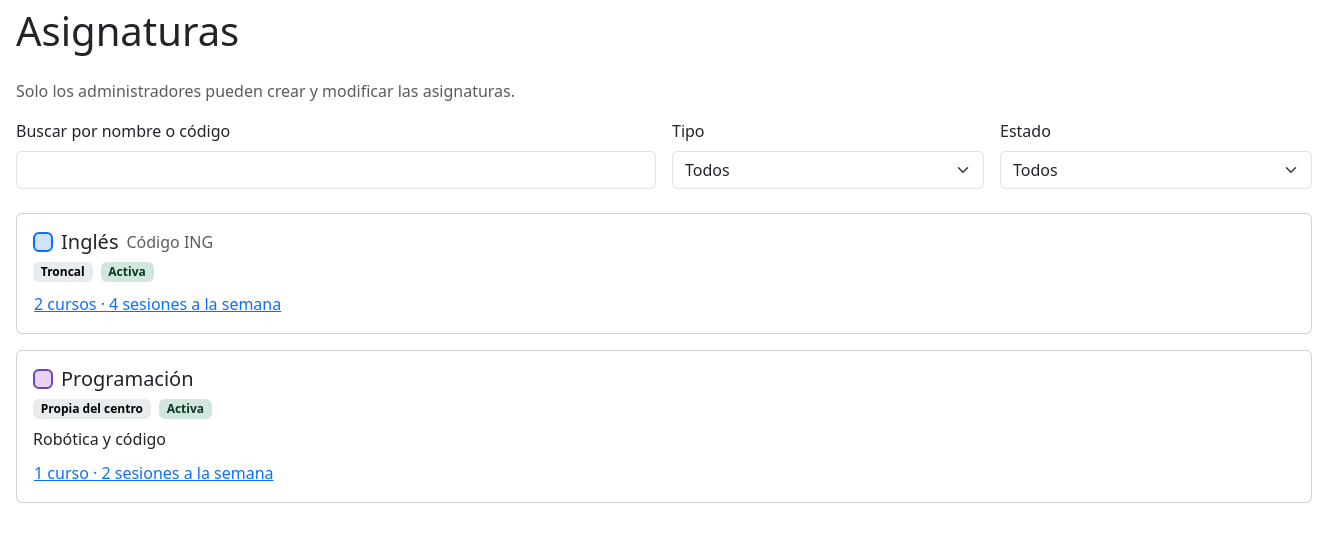
Test: SubjectsPage › expanding the courses › expands each subject on its own
Expected: the element "Inglés" is shown, left=16, top=213, right=1312, bottom=334
Click the button "1 curso · 2 sesiones a la semana" at (154, 473), box left=33, top=460, right=274, bottom=486
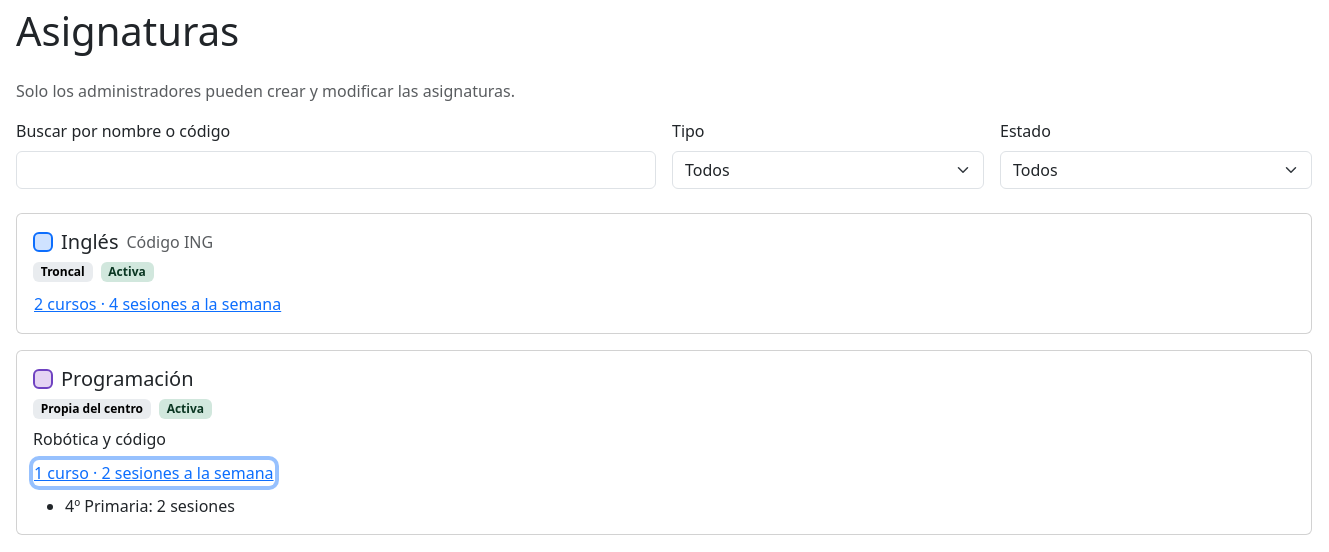
Expected: the list named "Cursos de Programación" is shown, left=65, top=495, right=235, bottom=517
